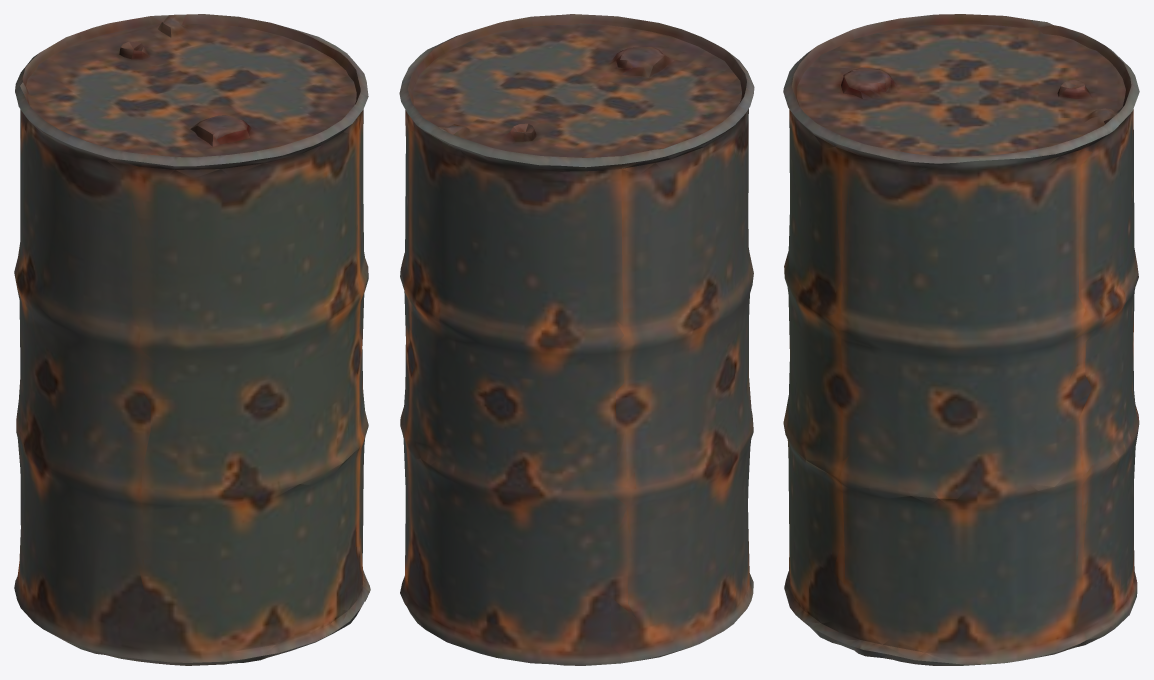
File: street_rusty_barrel.glb
3 renders of one model, left to right at view 1: azimuth 30°, elevation 25°; view 2: azimuth 150°, elevation 25°; view 3: azimuth 270°, elevation 25°, orthographic.
Parts seen in each view (by area): view 1: turn; view 2: turn; view 3: turn.
Boxes of the visible parts, x1,y1,x2,y2 form: turn: [14, 14, 370, 665]; turn: [399, 14, 754, 665]; turn: [783, 14, 1139, 665].
Bounding box in the file's own units: 0.5669 × 0.9 × 0.5689.
1 material, 1 textured.
